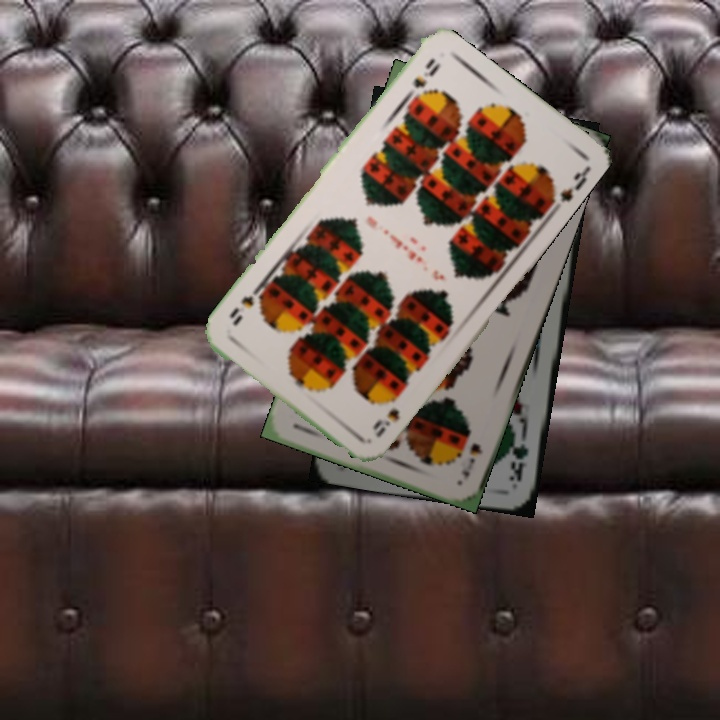GK: (504, 428, 531, 485)
S9: (368, 404, 403, 440), (409, 54, 442, 91)
SO: (457, 439, 486, 481)
